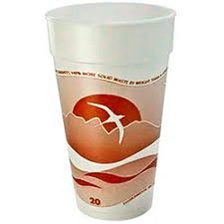paper_cup: (39, 0, 180, 223)
